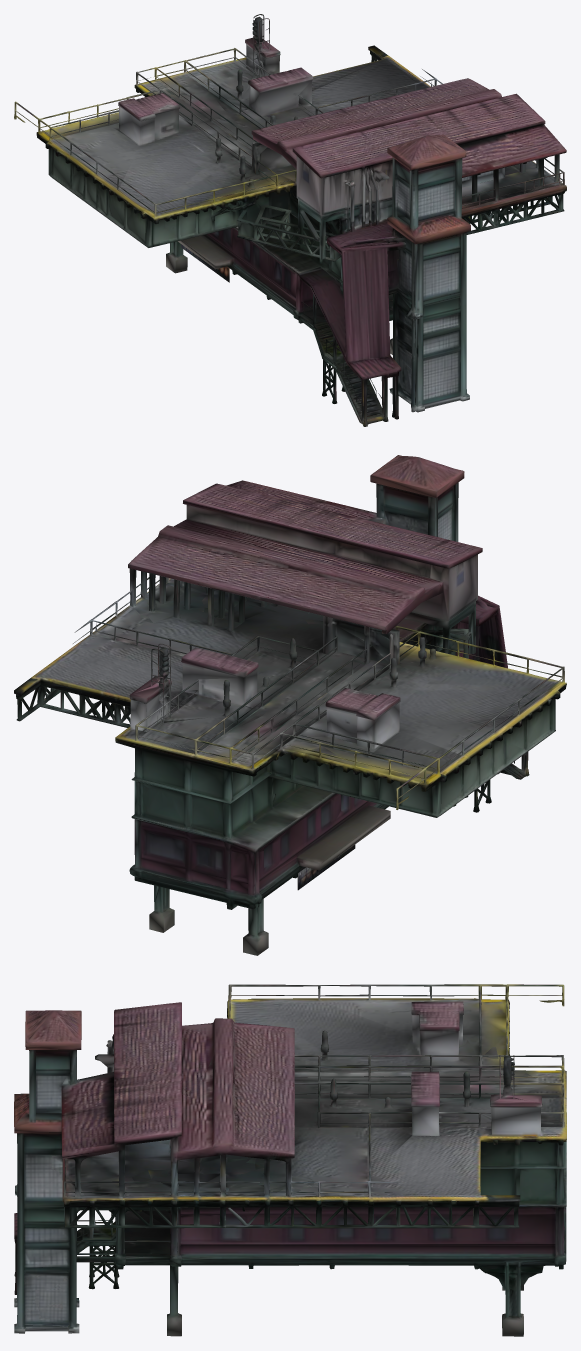
File: myrtle_station.glb
The picture shows the model from 3 angles, top to bottom: view 1: azimuth 30°, elevation 25°; view 2: azimuth 150°, elevation 25°; view 3: azimuth 270°, elevation 25°; orthographic projection. The views are drawn at different scales.
Parts seen in each view (by area): view 1: node_0; view 2: node_0; view 3: node_0.
Part boxes in pixels (x1,y1,x2,y2): node_0: (14,14,566,426); node_0: (14,455,566,955); node_0: (14,984,566,1336).
Bounding box in the file's own units: 0.7829 × 0.5614 × 0.9066.
Materials: 1 (1 with a texture image).
